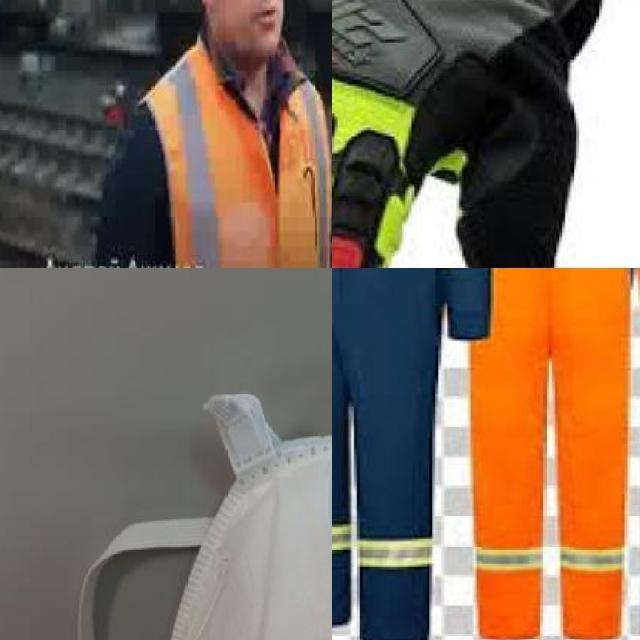apron: (332, 0, 588, 268)
